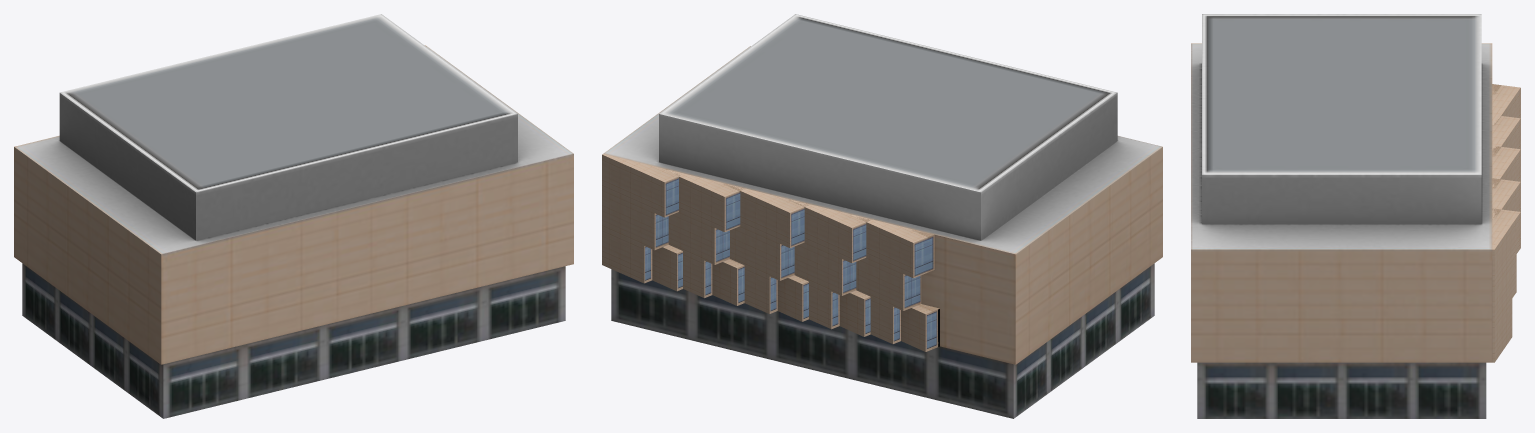
The model's file is yazxtyg.gltf.
3 renders of one model, left to right at view 1: azimuth 30°, elevation 25°; view 2: azimuth 150°, elevation 25°; view 3: azimuth 270°, elevation 25°, orthographic. The views are drawn at different scales.
Visible parts, largest first — view 1: pCube15, pCube14; view 2: pCube14, pCube15, pCube29, pCube18, pCube27, pCube26, pCube28; view 3: pCube15, pCube14, pCube29, pCube18, pCube27, pCube28, pCube26.
Boxes of the visible parts, x1,y1,x2,y2 form: pCube15: (14, 46, 573, 418); pCube14: (59, 14, 517, 240); pCube14: (659, 14, 1117, 240); pCube15: (603, 46, 1162, 418); pCube29: (602, 154, 682, 291); pCube18: (851, 214, 939, 351); pCube27: (728, 184, 810, 321); pCube26: (791, 199, 872, 336); pCube28: (663, 169, 744, 305); pCube15: (1191, 43, 1492, 418); pCube14: (1202, 14, 1481, 224); pCube29: (1492, 208, 1520, 362); pCube18: (1492, 84, 1520, 125); pCube27: (1492, 146, 1520, 186); pCube28: (1492, 178, 1520, 219); pCube26: (1492, 116, 1520, 150).
Bounding box in the file's own units: 3.71 × 1.86 × 2.51.
Materials: 1 (1 with a texture image).
